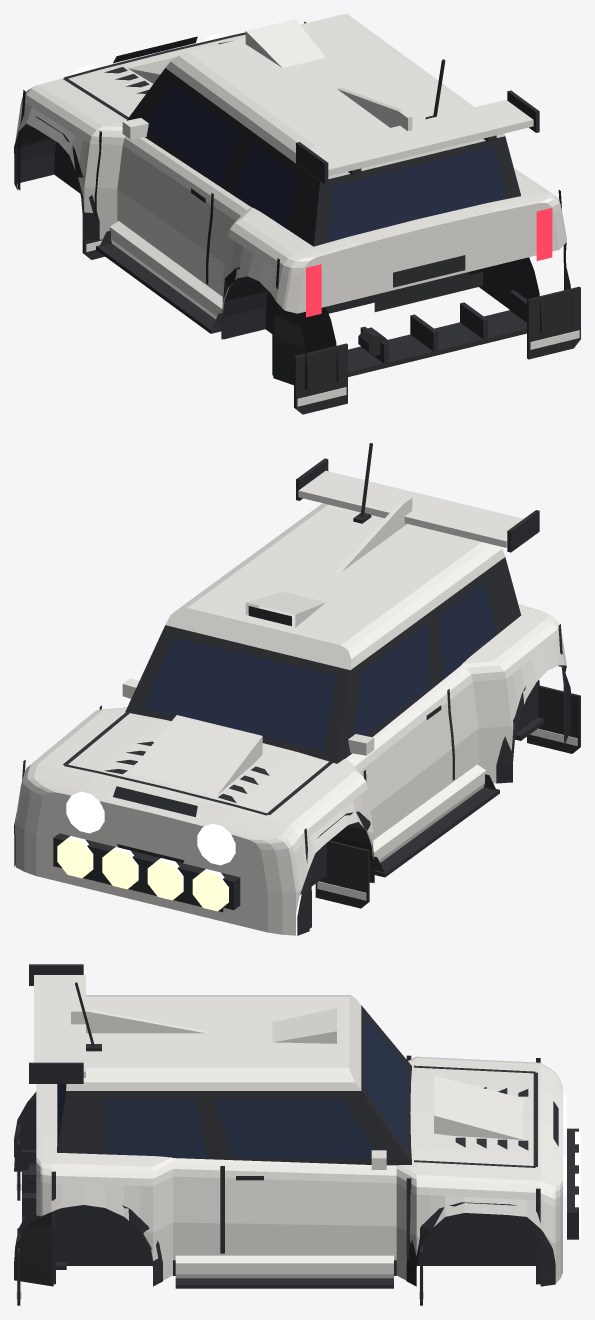
File: Tora.glb
3 views of the same model, one above another, from view 1: azimuth 30°, elevation 25°; view 2: azimuth 150°, elevation 25°; view 3: azimuth 270°, elevation 25° (orthographic). The views are drawn at different scales.
Visible parts, largest first — view 1: Roof, BumperRear, Door_FL, RearWindow, Pillars, Opt_Wing_Rally_WingBlade, Opt_Mudflaps_Long_AccMudflapsLong, Opt_Diffuser_Race_AccDiffuserRace, Fender_RL, Window_FL, Underbody, WheelWell (+23 smaller); view 2: Roof, BumperFront, Windshield, Hood, Pillars, Fender_RL, Door_FL, Opt_Hood_Scoop_HoodScoop, Opt_Wing_Rally_WingBlade, Opt_Bumper_Lamps_RallyLamp, Window_FL, Opt_Mudflaps_Long_AccMudflapsLong (+20 smaller); view 3: Roof, Door_FR, Fender_RR, WheelWell, Pillars, Hood, Window_FR, Window_RR, Fender_FR, Opt_Skirts_Side_AccSkirt_R, Opt_Hood_Scoop_HoodScoop, Opt_Wing_Rally_WingBlade (+17 smaller).
Part boxes in pixels (x1,y1,x2,y2): Roof: (165, 14, 504, 180); BumperRear: (276, 194, 566, 313); Door_FL: (92, 126, 226, 287); RearWindow: (328, 146, 506, 242); Pillars: (127, 68, 520, 246); Opt_Wing_Rally_WingBlade: (308, 100, 533, 176); Opt_Mudflaps_Long_AccMudflapsLong: (82, 218, 580, 414); Opt_Diffuser_Race_AccDiffuserRace: (322, 290, 526, 376); Fender_RL: (210, 191, 294, 315); Window_FL: (147, 84, 239, 184); Underbody: (17, 124, 468, 339); WheelWell: (54, 141, 541, 381); Roof: (165, 503, 505, 670); BumperFront: (15, 764, 307, 935); Windshield: (143, 637, 335, 751); Hood: (38, 709, 353, 824); Pillars: (125, 557, 521, 763); Fender_RL: (437, 619, 564, 783); Door_FL: (344, 685, 453, 840); Opt_Hood_Scoop_HoodScoop: (109, 715, 262, 818); Opt_Wing_Rally_WingBlade: (298, 470, 523, 547); Opt_Bumper_Lamps_RallyLamp: (57, 836, 228, 911); Window_FL: (354, 624, 430, 735); Opt_Mudflaps_Long_AccMudflapsLong: (315, 685, 580, 908); Roof: (66, 995, 361, 1090); Door_FR: (220, 1159, 411, 1280); Fender_RR: (51, 1157, 220, 1280); WheelWell: (14, 1110, 555, 1265); Pillars: (57, 1005, 411, 1165); Hood: (411, 1058, 540, 1180); Window_FR: (216, 1100, 373, 1157); Window_RR: (105, 1100, 207, 1157); Fender_FR: (411, 1172, 540, 1256); Opt_Skirts_Side_AccSkirt_R: (175, 1255, 393, 1278); Opt_Hood_Scoop_HoodScoop: (434, 1075, 557, 1149); Opt_Wing_Rally_WingBlade: (34, 975, 85, 1077).
Bounding box in the file's own units: 6.46 × 6.14 × 11.41.
